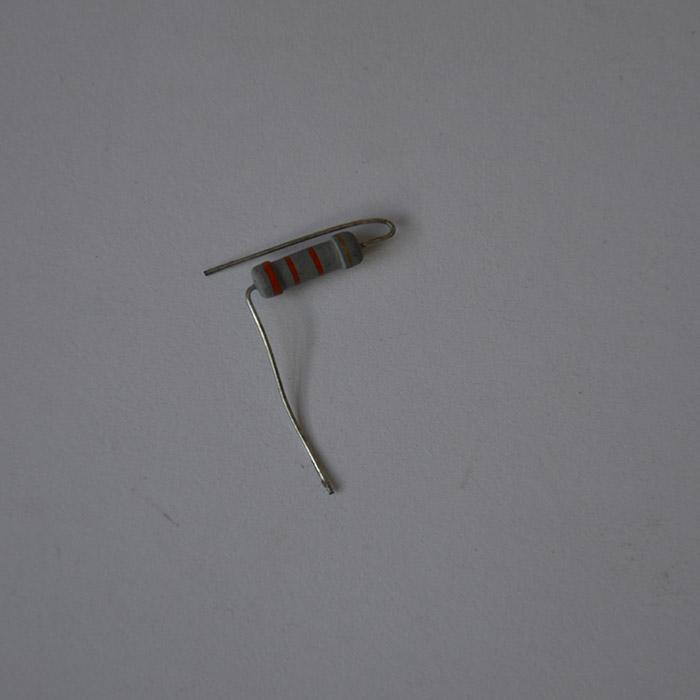resistor: (247, 228, 366, 300)
